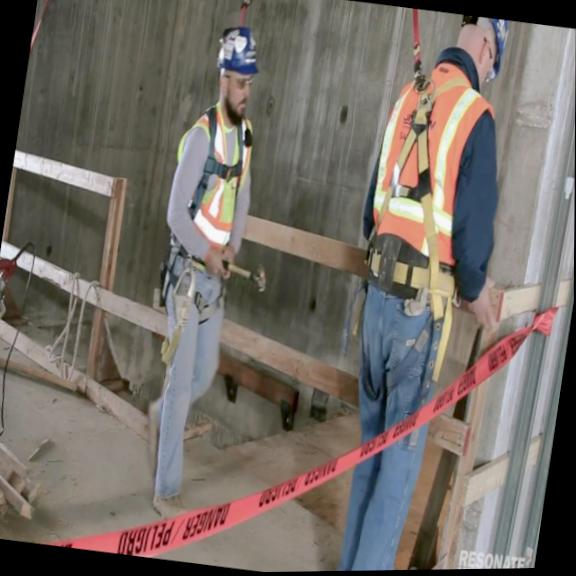safety_vest: (363, 52, 504, 269), (160, 95, 258, 250)
